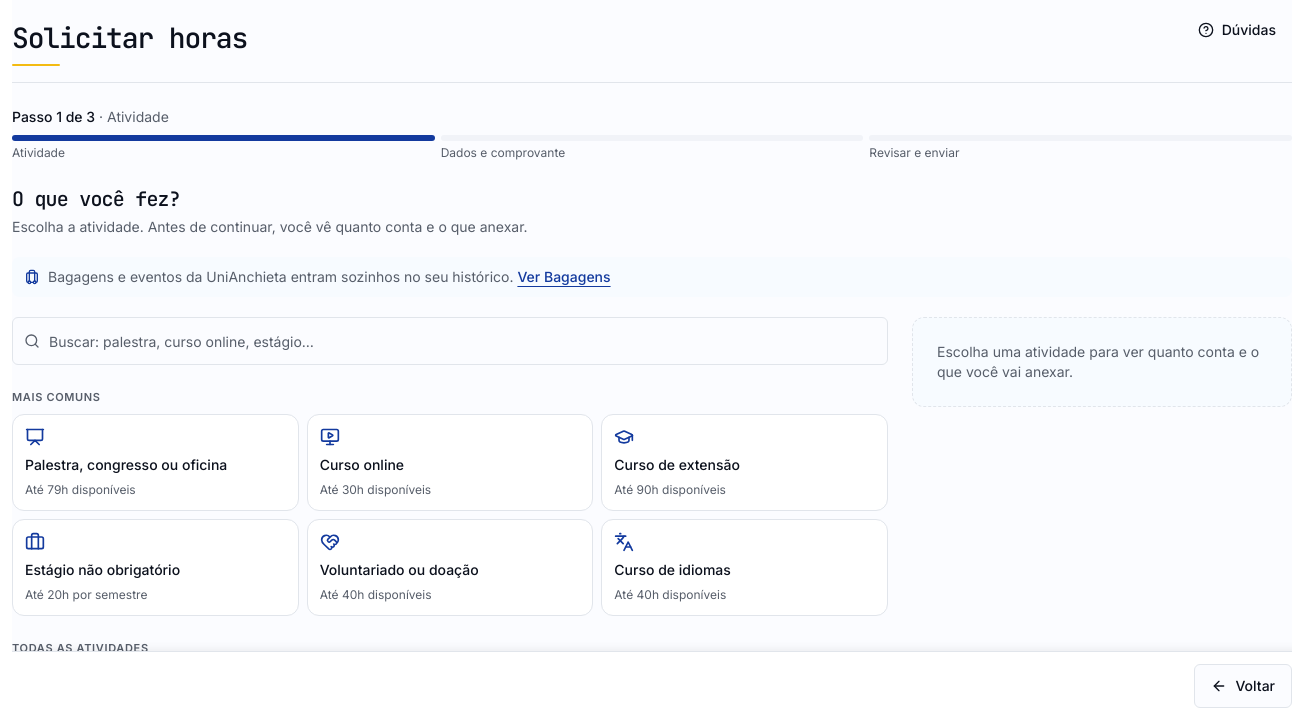
Scenario: Solicitação › calcula sozinho as horas a partir do comprovante
The width and height of the screenshot is (1304, 720).
Click the button "Palestra, congresso ou oficina Até 79h disponíveis". click: (155, 462)
box: [12, 414, 299, 511]
(page scrolled)
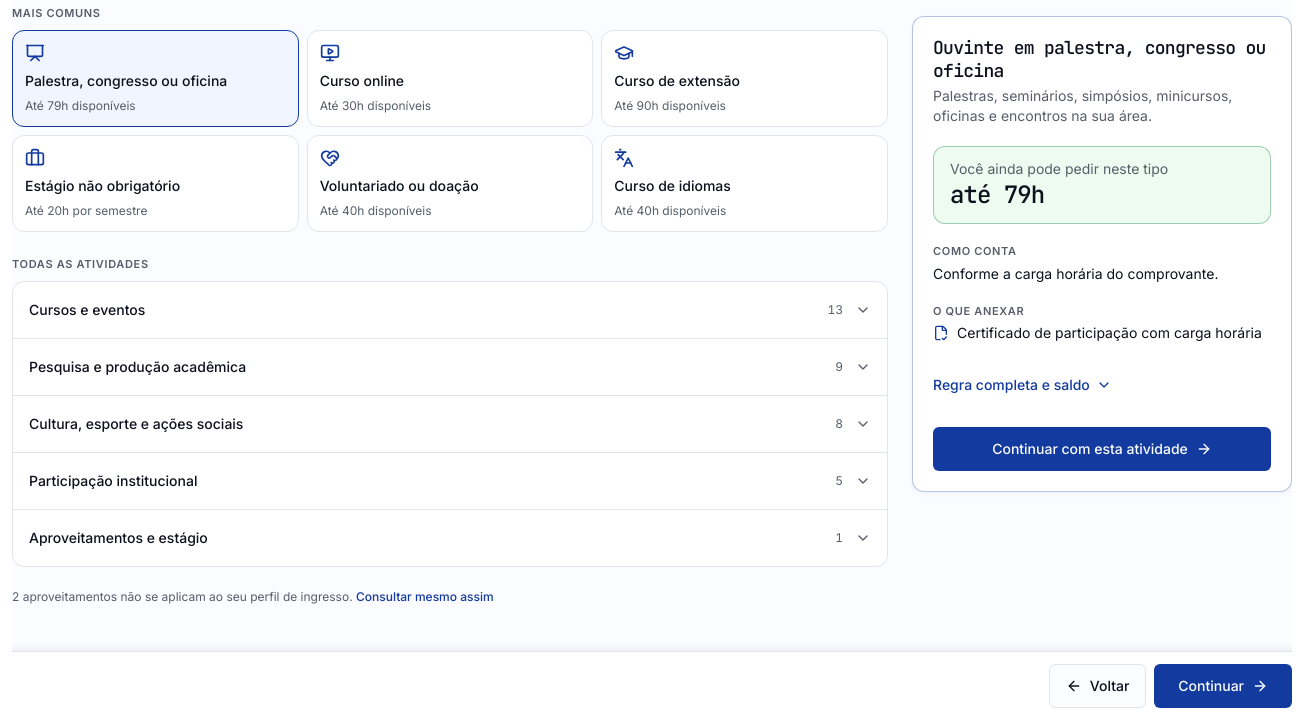
Click the button "Continuar com esta atividade". click: (1102, 449)
box: [933, 427, 1271, 471]
(page scrolled)
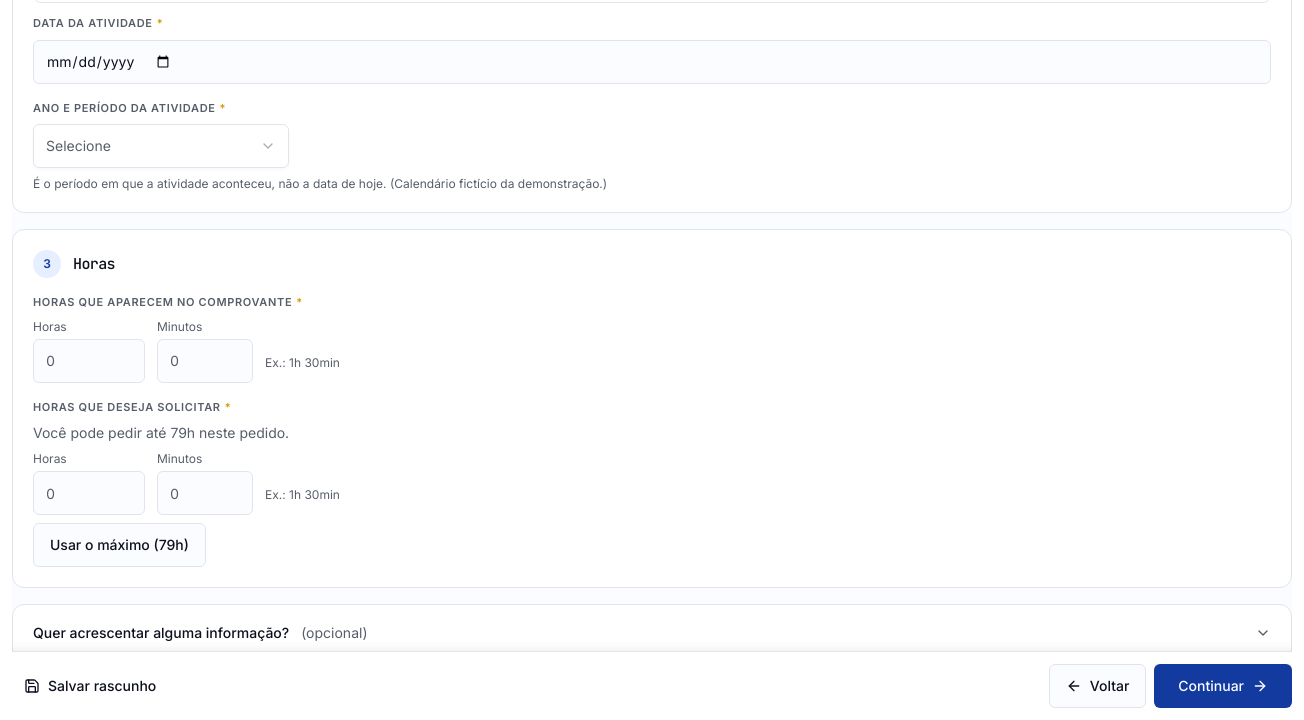
Type "3" into the field labelled "Horas" below "Horas que aparecem no comprovante". click: (89, 360)
box: [33, 338, 145, 382]
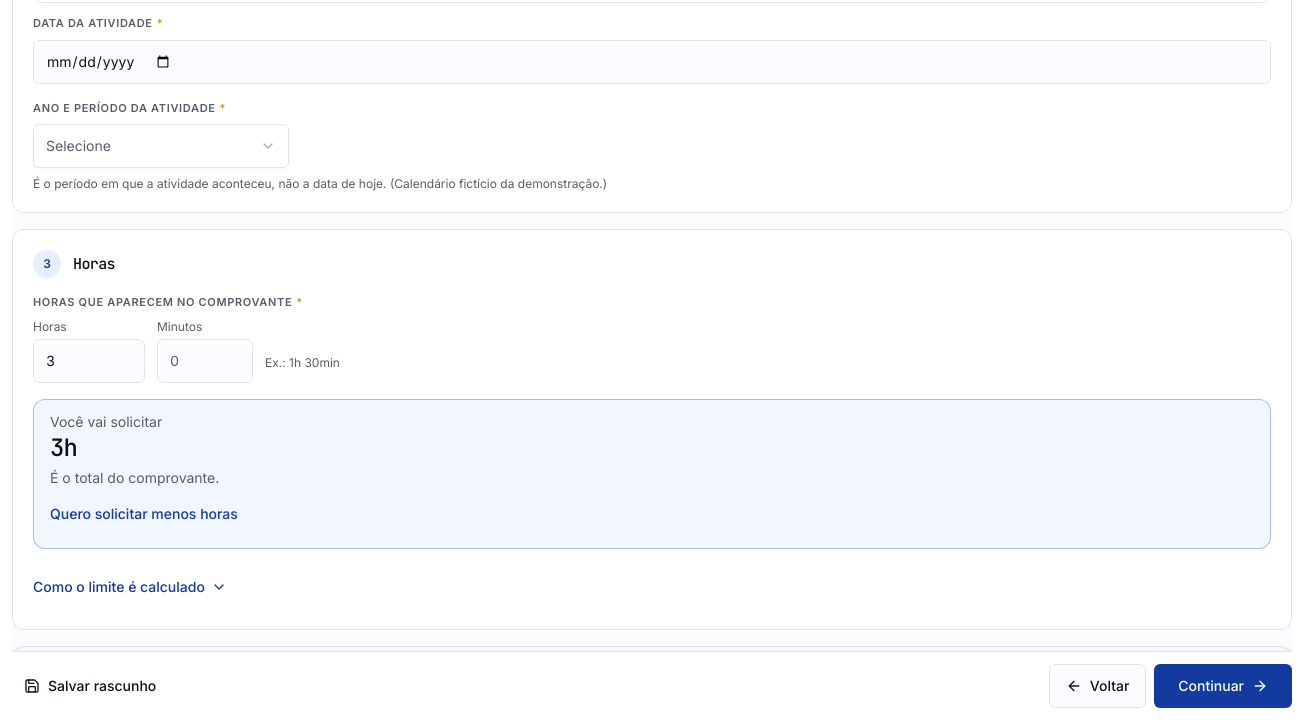
Expected: the text "Você vai solicitar" is shown, [50, 412, 162, 430]
Expected: the text "3h" is shown, [50, 432, 77, 462]
Click the button "Quero solicitar menos horas". click: (144, 514)
box: [50, 492, 238, 536]
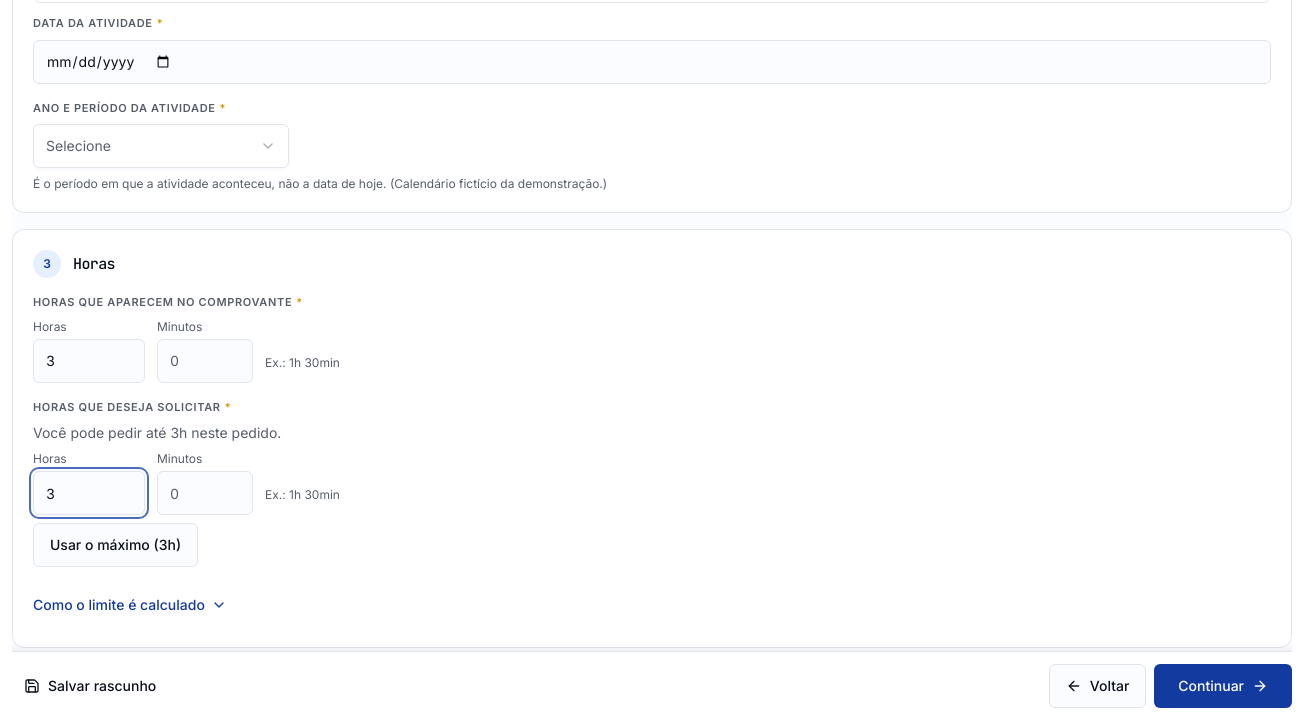
Expected: the field labelled "Horas" below "Você pode pedir até 3h neste pedido." is shown, [33, 471, 145, 515]
